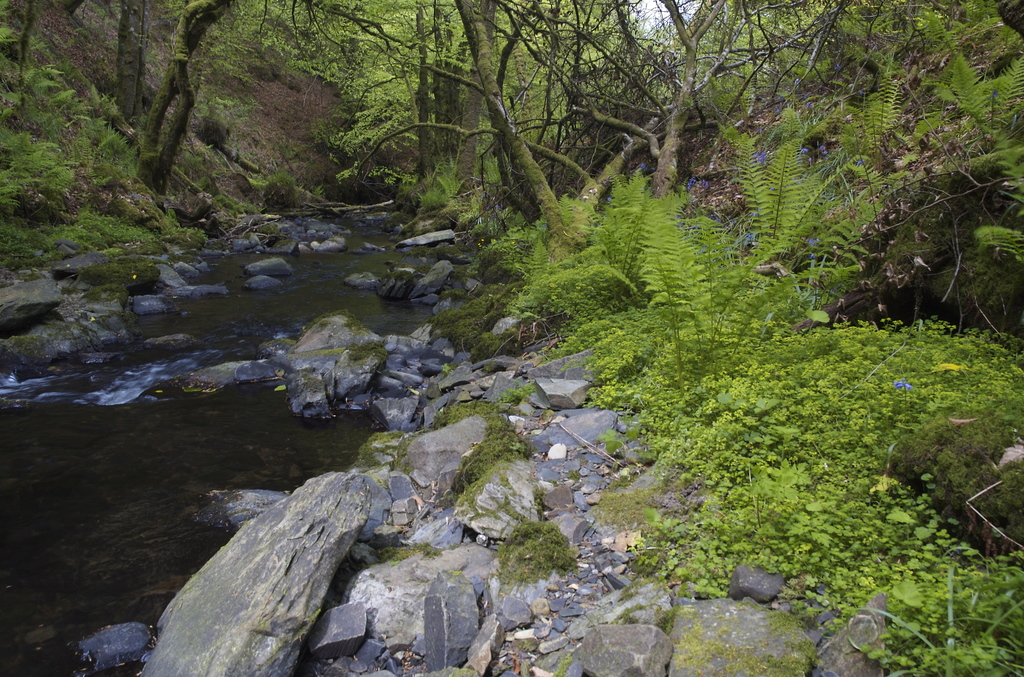Tree: (0, 0, 1023, 334)
